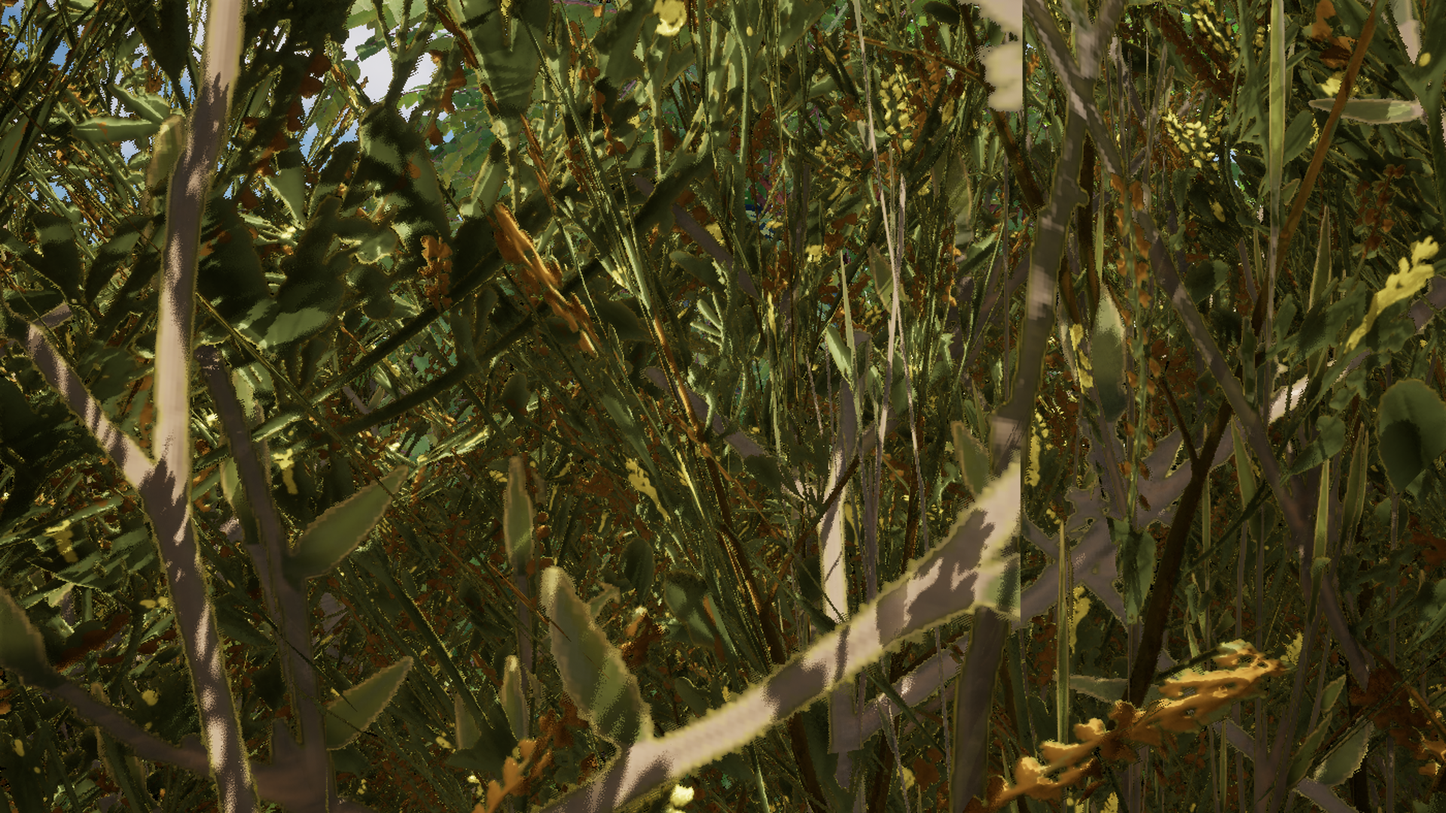Piplup: (521, 0, 1084, 813)
